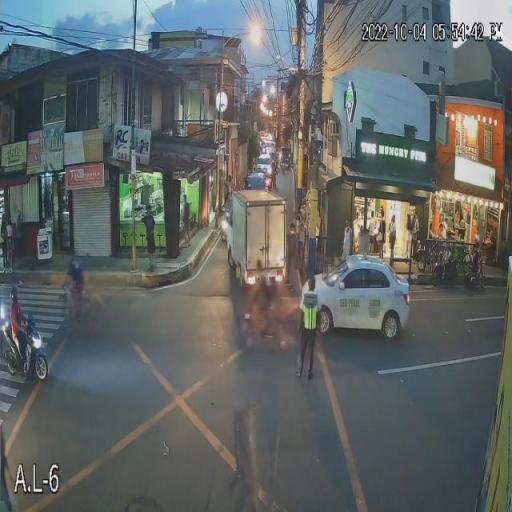helmet: (10, 285, 20, 297)
motorcycle: (0, 311, 49, 382)
rider: (6, 285, 31, 351), (65, 257, 86, 311)
